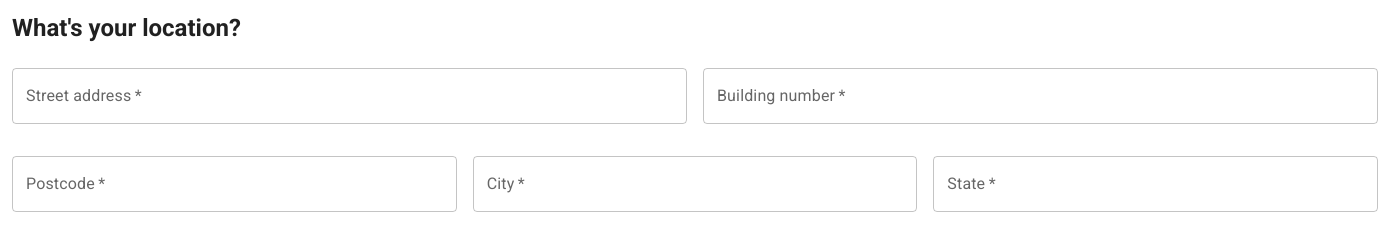
Test: LocationStep › should display an error if street_address is required
Type "1" into the field labelled "Street address *".
click(350, 96); type("1")  # box [12,68,687,124]
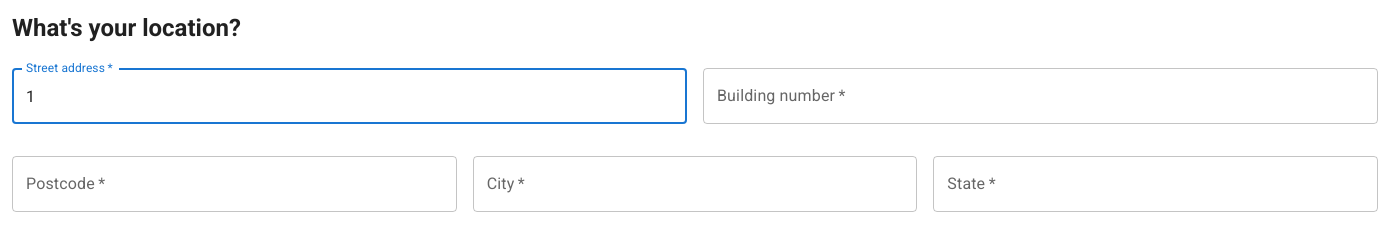
Clear the field labelled "Street address *" at (350, 96), box [12,68,687,124]
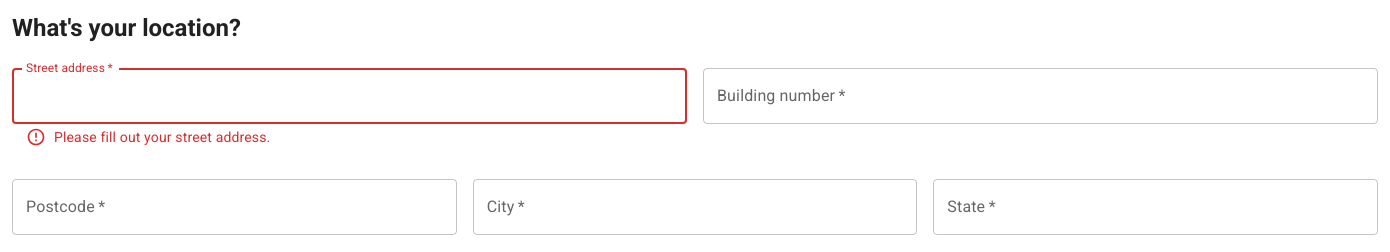
Now the message shows "fill out your street address", box [54,129,270,145]
